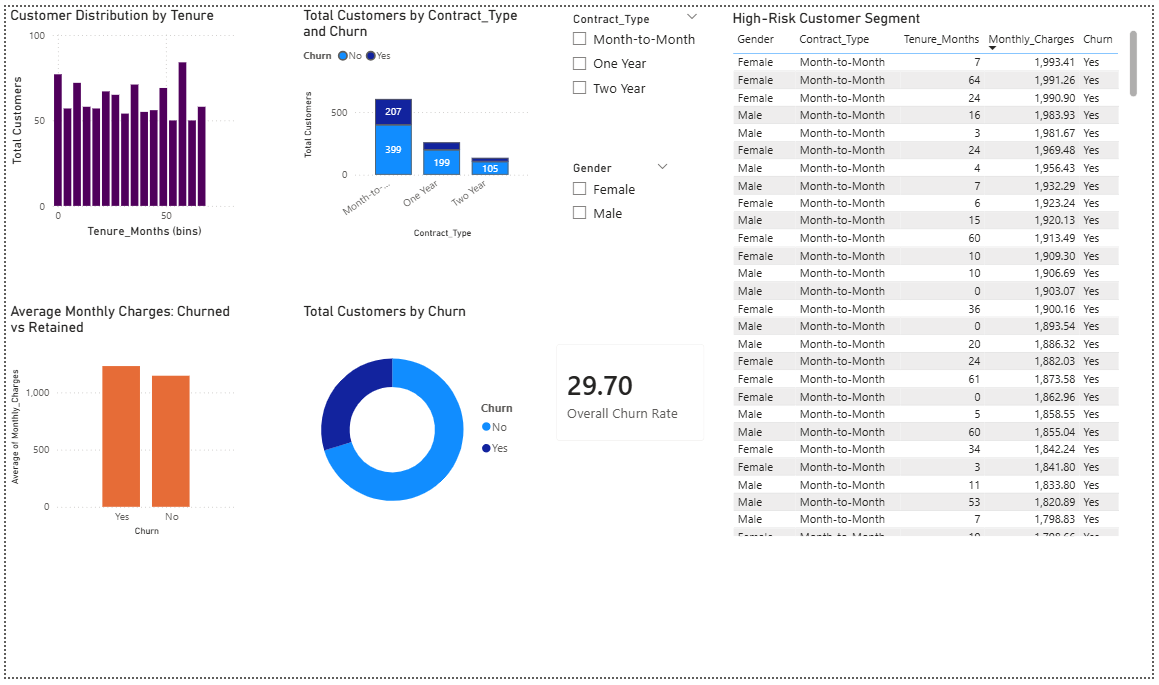

The dashboard page shown, as its layout file describes it:
{"tool":"powerbi","page":{"name":"Customer Churn Analysis","canvas":[1369,800],"ordinal":0},"visuals":[{"type":"columnChart","title":"Customer Distribution by Tenure","fields":{"Y":["telecom_customer_churn.Total Customers"],"Category":["telecom_customer_churn.Tenure_Months (bins)"]},"box":[16.1,0,291.9,280.6],"z":0},{"type":"columnChart","fields":{"Category":["telecom_customer_churn.Contract_Type"],"Series":["telecom_customer_churn.Churn"],"Y":["telecom_customer_churn.Total Customers"]},"box":[350,0,280.6,280.6],"z":1000},{"type":"clusteredColumnChart","title":"Average Monthly Charges: Churned vs Retained","fields":{"Category":["telecom_customer_churn.Churn"],"Y":["Avg(telecom_customer_churn.Monthly_Charges)"]},"box":[16.1,353.2,291.9,283.9],"z":2000},{"type":"donutChart","fields":{"Category":["telecom_customer_churn.Churn"],"Y":["CountNonNull(telecom_customer_churn.CustomerID)"]},"box":[350,353.2,280.6,283.9],"z":3000},{"type":"slicer","fields":{"Values":["telecom_customer_churn.Gender"]},"box":[664.5,179,138.7,121],"z":4000},{"type":"slicer","fields":{"Values":["telecom_customer_churn.Contract_Type"]},"box":[664.5,0,174.2,140.3],"z":5000},{"type":"tableEx","title":"High-Risk Customer Segment","fields":{"Values":["telecom_customer_churn.Gender","telecom_customer_churn.Contract_Type","telecom_customer_churn.Tenure_Months","telecom_customer_churn.Monthly_Charges","telecom_customer_churn.Churn"]},"box":[862.9,3.2,493.5,633.9],"z":6000},{"type":"cardVisual","fields":{"Data":["telecom_customer_churn.Churn Rate (%)"]},"box":[640.3,385.5,211.3,150],"z":6001}]}

Visuals, with their boxes in screenshot pixels (x1, y1, x2, y2), scaled from the page's 1369x800 canvas onto the 1159x685 screenshot:
"Customer Distribution by Tenure" columnChart: 14 0 261 240
columnChart - telecom_customer_churn.Contract_Type x telecom_customer_churn.Churn: 296 0 534 240
"Average Monthly Charges: Churned vs Retained" clusteredColumnChart: 14 302 261 546
donutChart - telecom_customer_churn.Churn x CountNonNull(telecom_customer_churn.CustomerID): 296 302 534 546
slicer - telecom_customer_churn.Gender: 563 153 680 257
slicer - telecom_customer_churn.Contract_Type: 563 0 710 120
"High-Risk Customer Segment" tableEx: 731 3 1148 546
cardVisual - telecom_customer_churn.Churn Rate (%): 542 330 721 459
